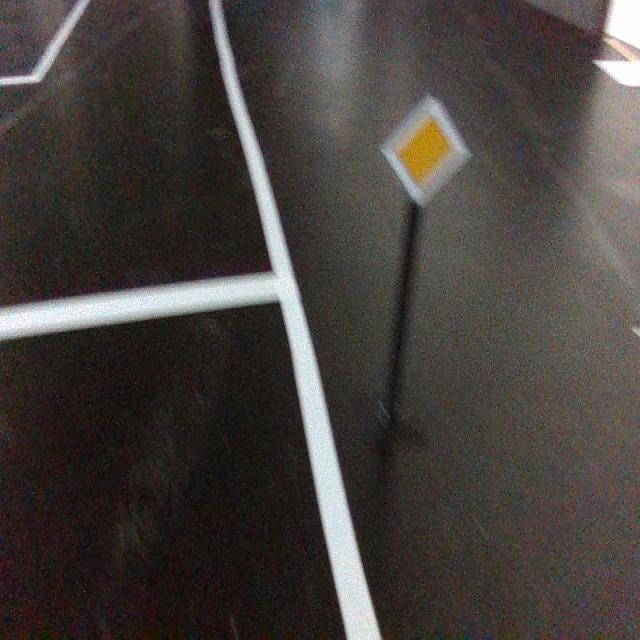priority-sign: (378, 93, 472, 210)
